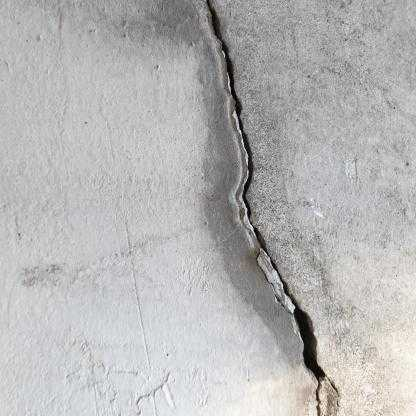crack: (206, 1, 339, 416)
